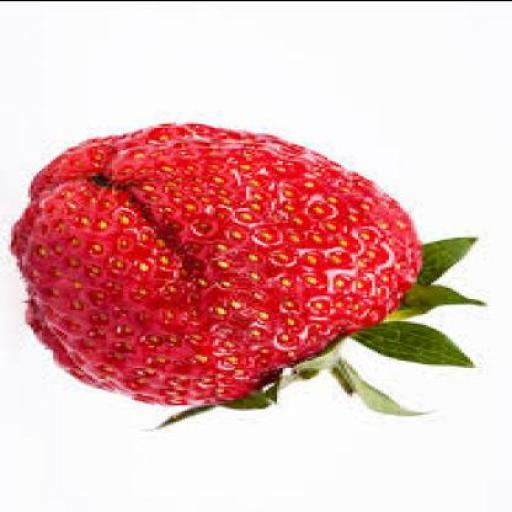biodegradable: (14, 125, 481, 428)
